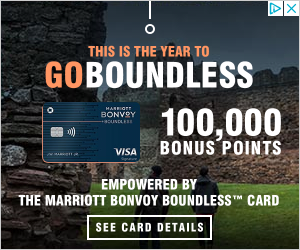fake_button: (79, 214, 222, 245)
